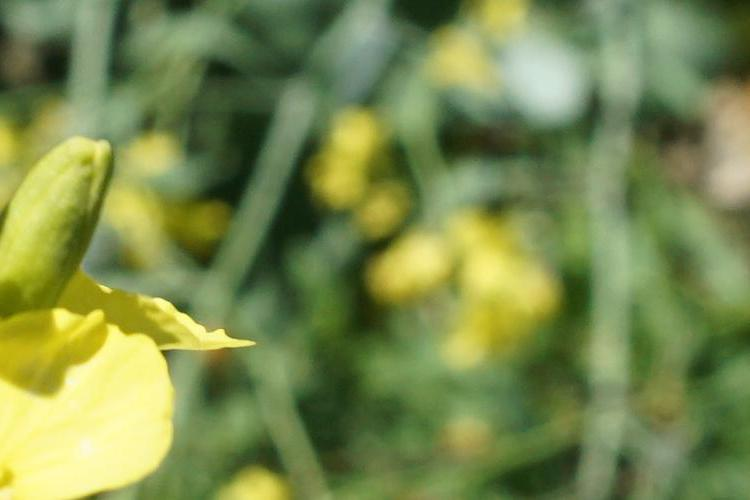bud: (2, 146, 130, 314)
yellow: (6, 299, 194, 485)
